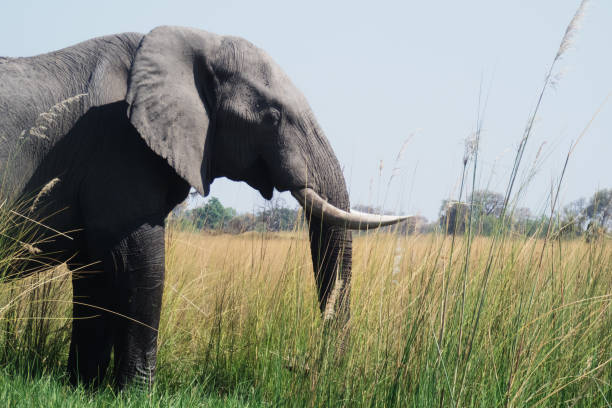africanelephant: (126, 26, 411, 253)
